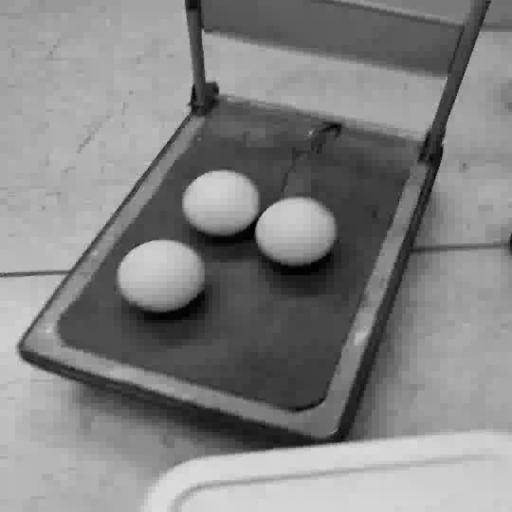fuel: (117, 240, 205, 312), (255, 197, 337, 266), (183, 170, 260, 236)
